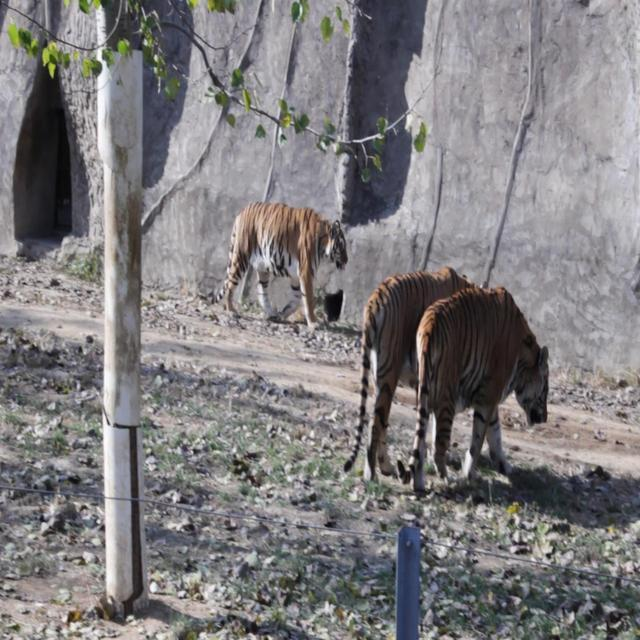tiger: (343, 265, 481, 484), (404, 284, 549, 492), (209, 199, 348, 327)
